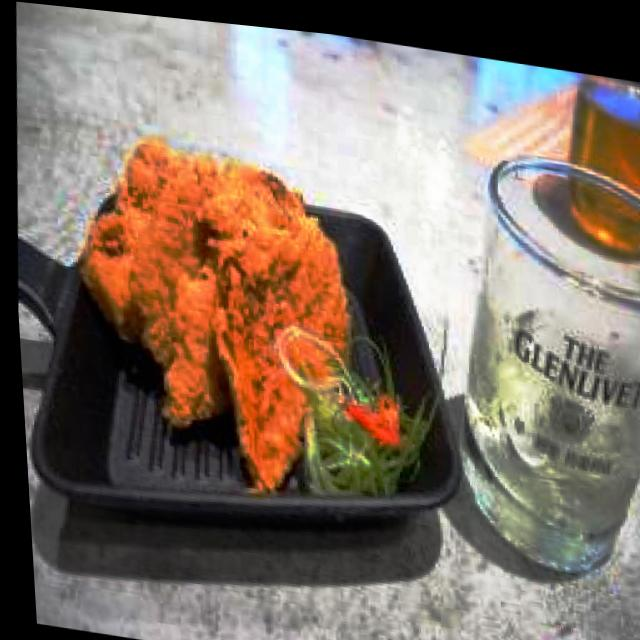drink: (436, 142, 640, 591), (560, 71, 640, 262)
fried_chicken: (65, 126, 368, 510)
